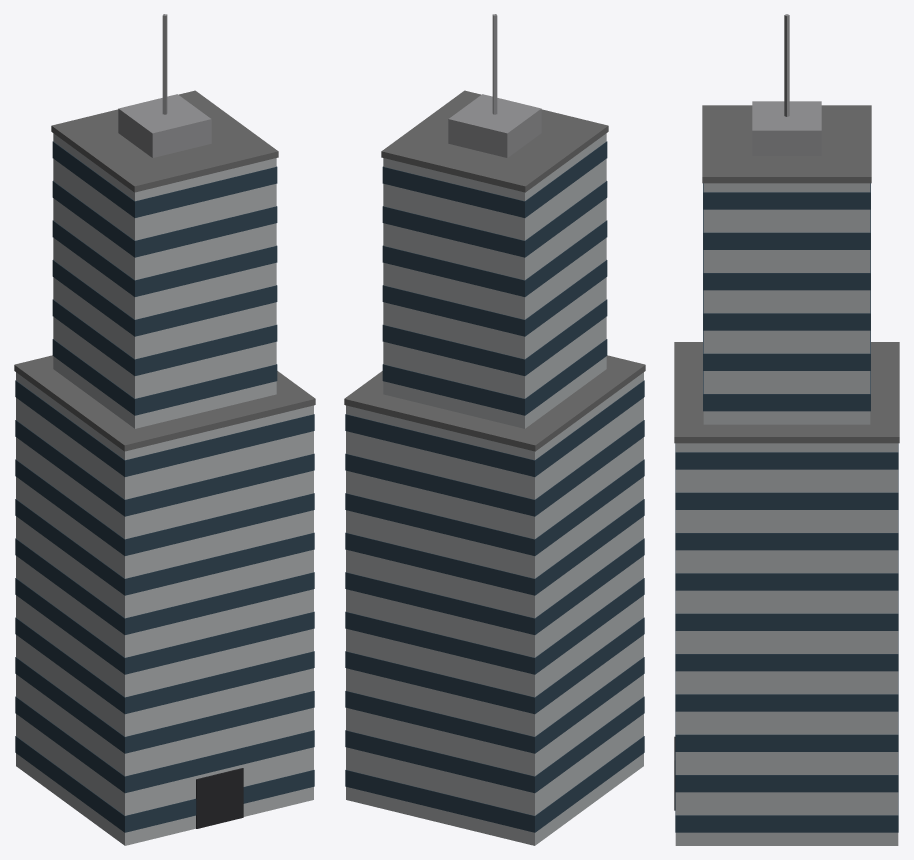
Rendered from building_c.glb.
The picture shows the model from 3 angles, left to right: view 1: azimuth 30°, elevation 25°; view 2: azimuth 150°, elevation 25°; view 3: azimuth 270°, elevation 25°; orthographic projection. The views are drawn at different scales.
Visible parts, largest first — view 1: Body; view 2: Body; view 3: Body.
Boxes of the visible parts, x1,y1,x2,y2 form: Body: (14,14,315,845); Body: (344,14,645,845); Body: (674,14,899,845).
Size of the model in its own units: 16.2 by 62.2 by 16.2.
